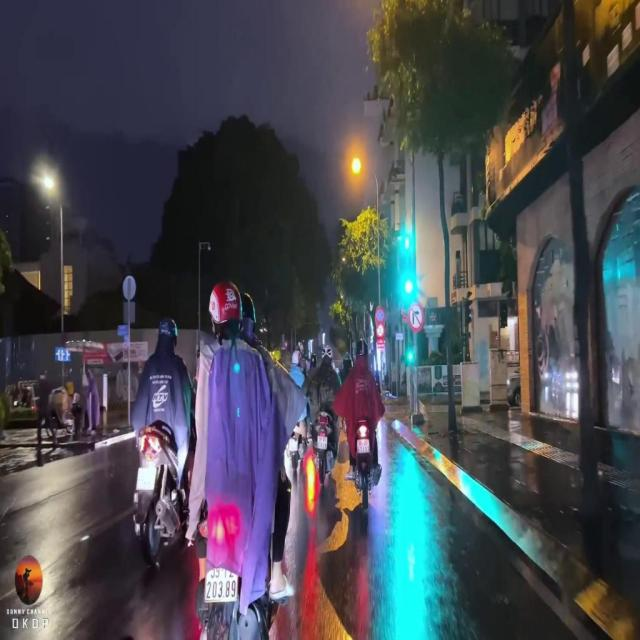cam_cac_loai_xe_3_banh: (376, 324, 385, 339)
cam_dung_xe_va_do_xe: (374, 306, 385, 324)
cam_re_phai: (408, 300, 425, 334)
huong_di_tren_moi_lan_duong_theo_vach_ke_duong: (55, 348, 71, 362)
khac: (377, 339, 385, 349)
